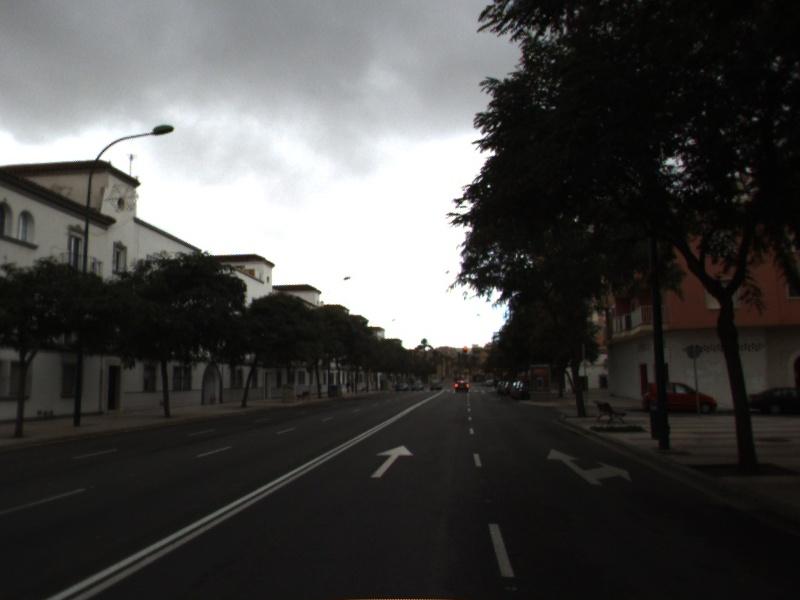STRAIGHT: (370, 444, 415, 478)
STRAIGHT_RIGHT: (546, 447, 633, 485)
